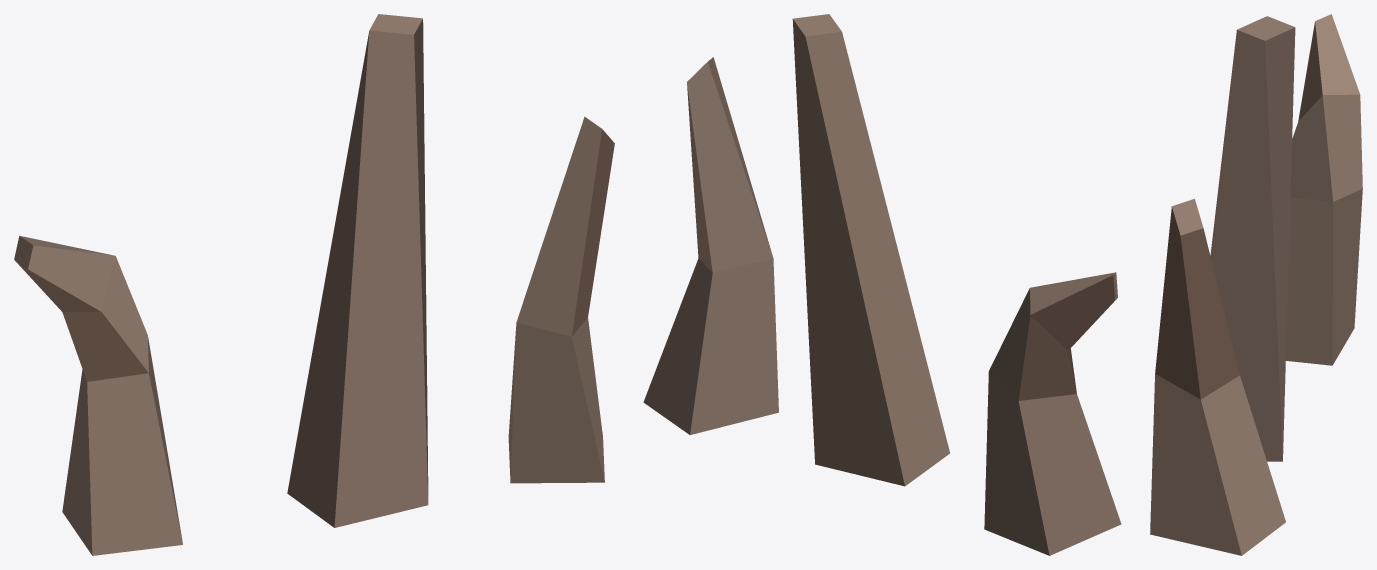
Rendered from GrassWinter1_Alt4.fbx.
3 views of the same model, side by side, from view 1: azimuth 30°, elevation 25°; view 2: azimuth 150°, elevation 25°; view 3: azimuth 270°, elevation 25° (orthographic). The views are drawn at different scales.
Parts seen in each view (by area): view 1: GrassWinter1_Alt4; view 2: GrassWinter1_Alt4; view 3: GrassWinter1_Alt4.
Boxes of the visible parts, bbox=[...] form: GrassWinter1_Alt4: bbox=[14, 14, 614, 555]; GrassWinter1_Alt4: bbox=[643, 14, 1121, 555]; GrassWinter1_Alt4: bbox=[1150, 14, 1362, 555].
Bounding box in the file's own units: 0.327 × 0.2606 × 0.1152.
